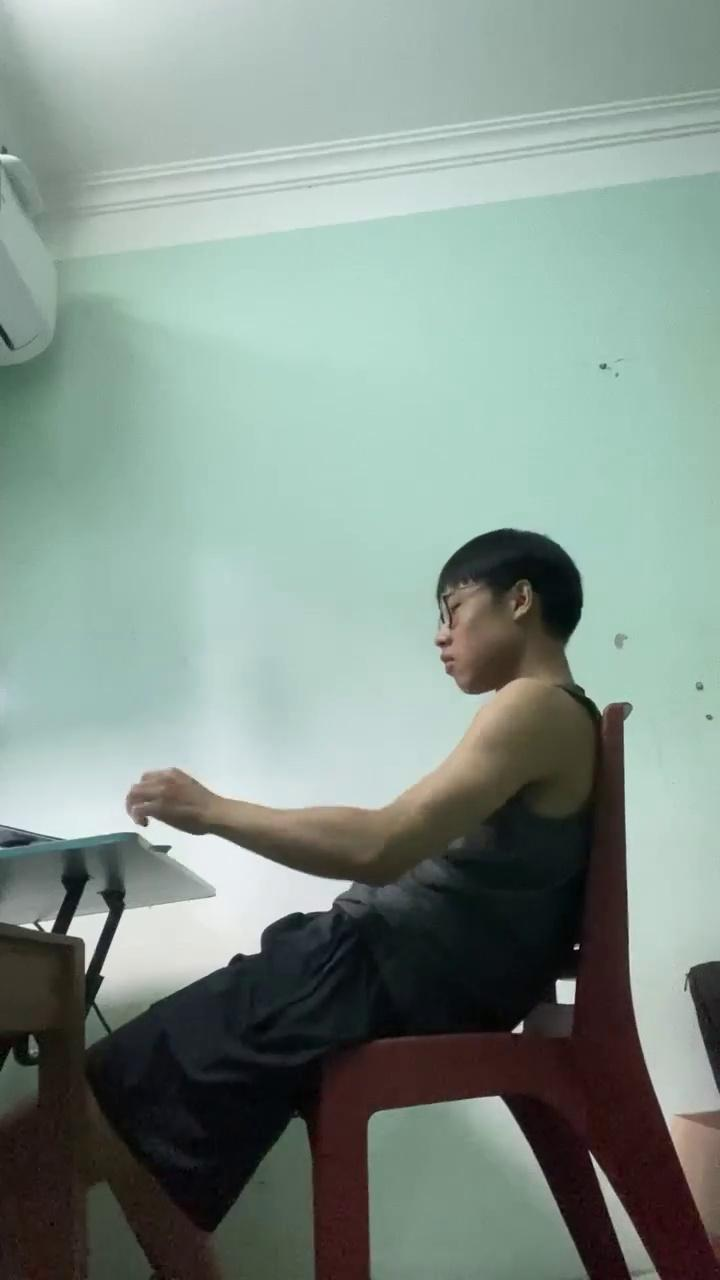BadPosture: (3, 532, 606, 1256), (132, 529, 598, 1022)
